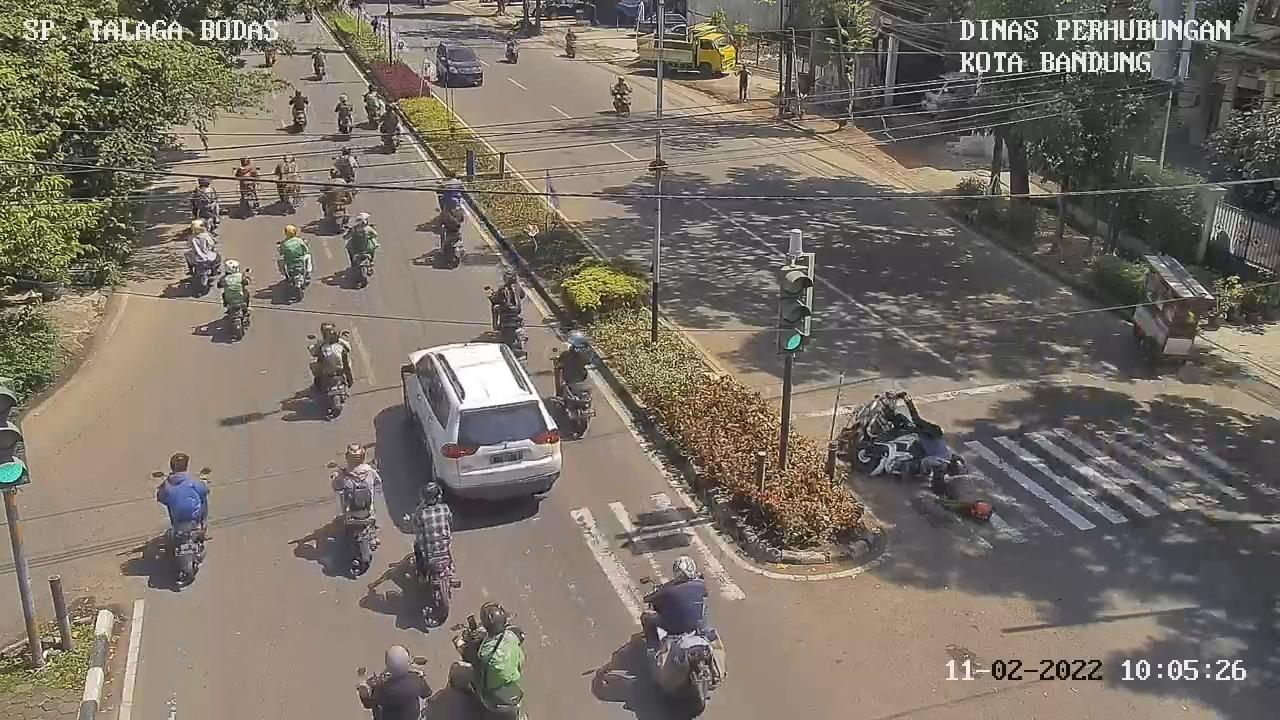accident: (885, 379, 971, 483), (935, 450, 1010, 529)
